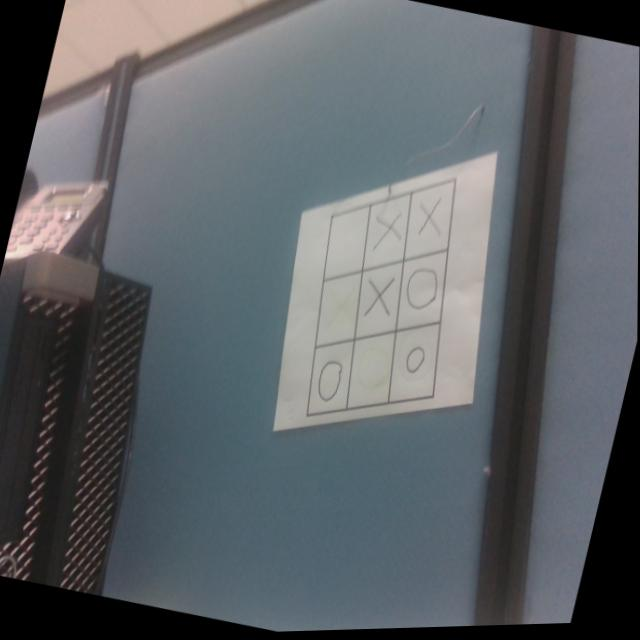null: (320, 208, 375, 281)
o: (354, 342, 397, 397), (400, 263, 444, 315), (309, 356, 346, 406), (402, 343, 428, 379)
table: (282, 151, 483, 456)
x: (318, 279, 364, 343), (366, 211, 409, 260), (412, 190, 449, 245), (361, 279, 396, 324)
